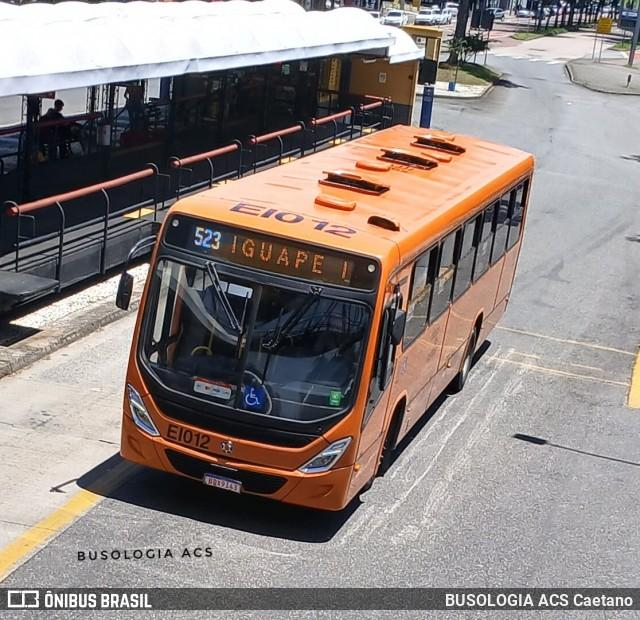IGUAPE I: (222, 224, 359, 289)
